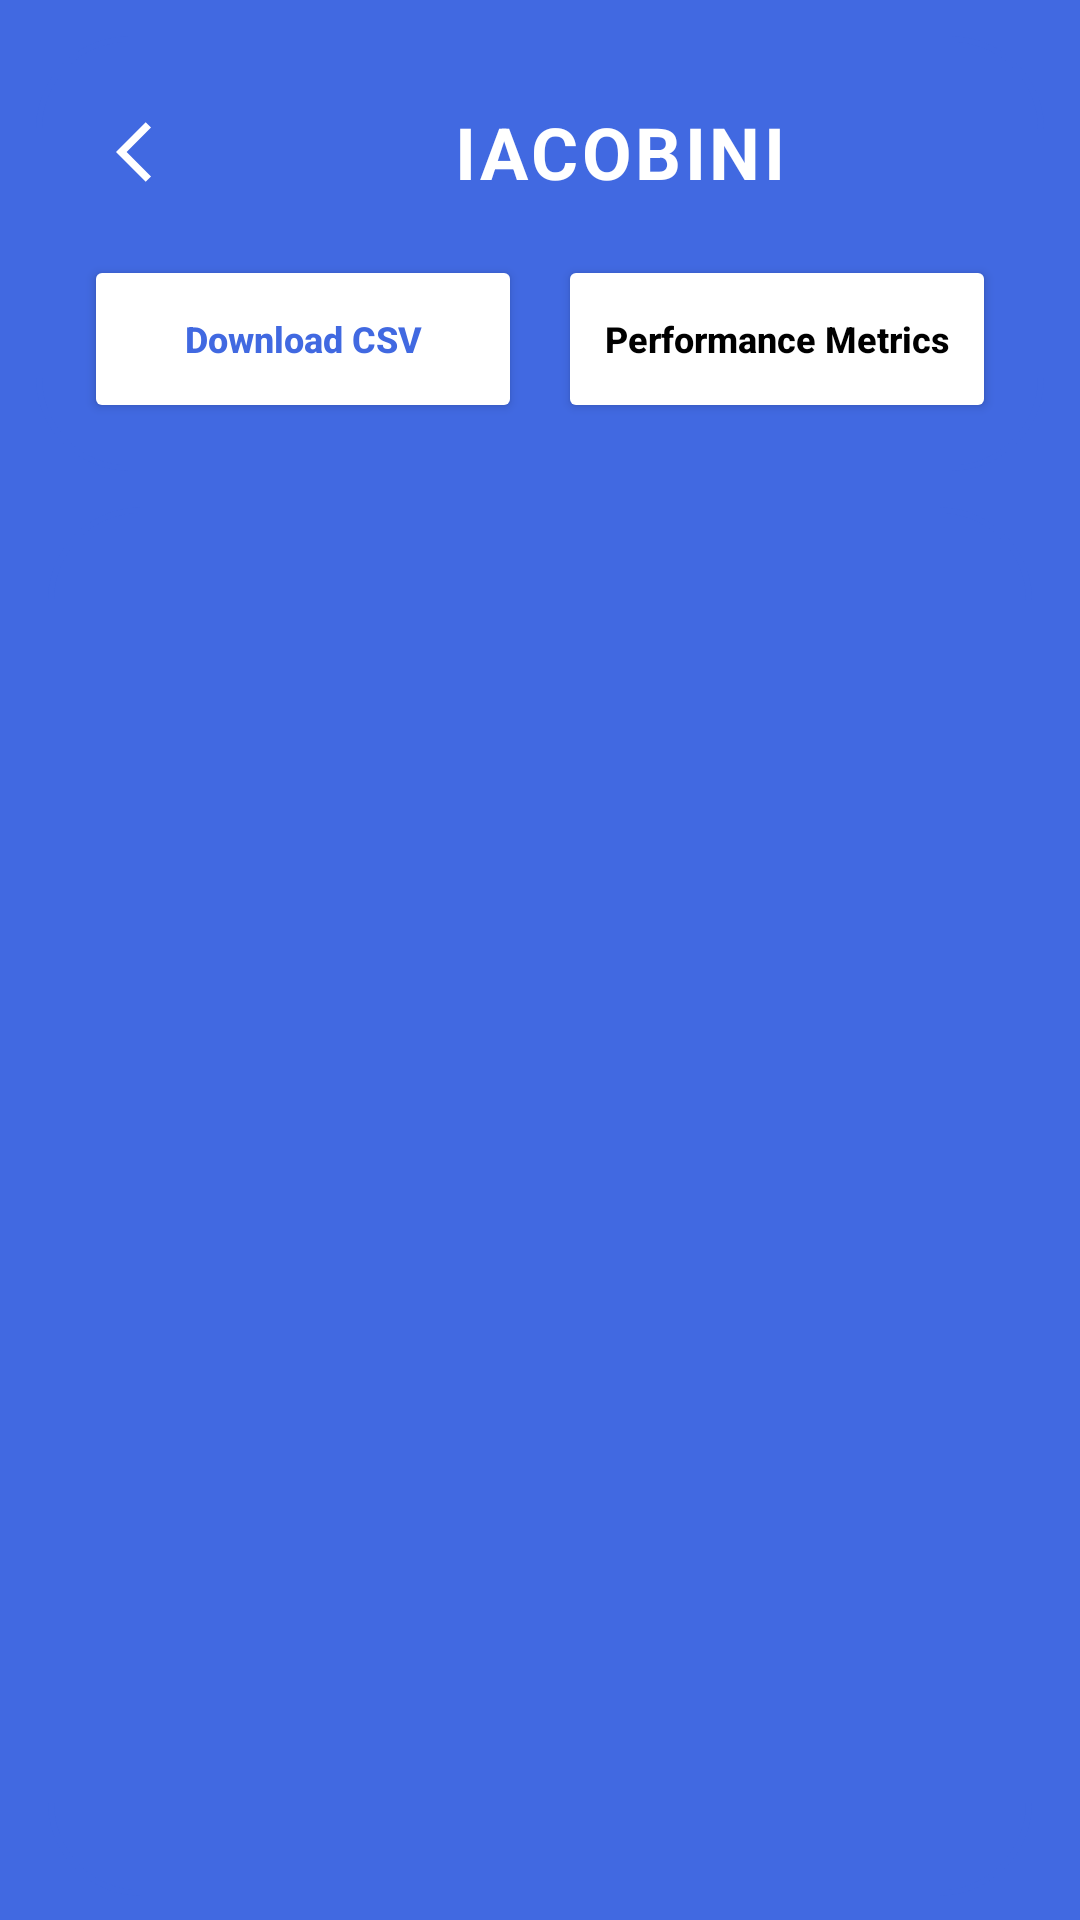

Named icons in this screenshot (1080 × 1920) and their centers, point (x, y):
back: point (133, 152)
